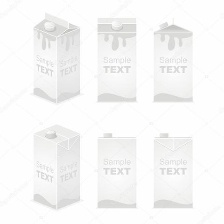carton: (25, 117, 89, 211), (28, 8, 83, 107), (146, 15, 198, 108), (90, 12, 139, 103), (148, 130, 196, 212), (92, 129, 140, 210)
